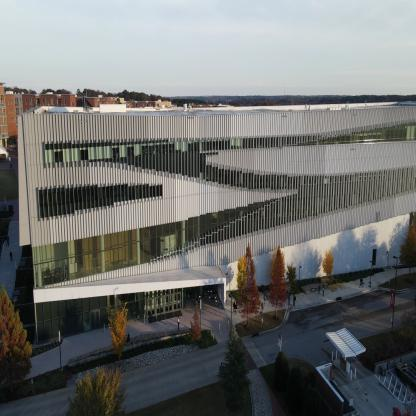Hunt Library: (13, 90, 415, 345)
